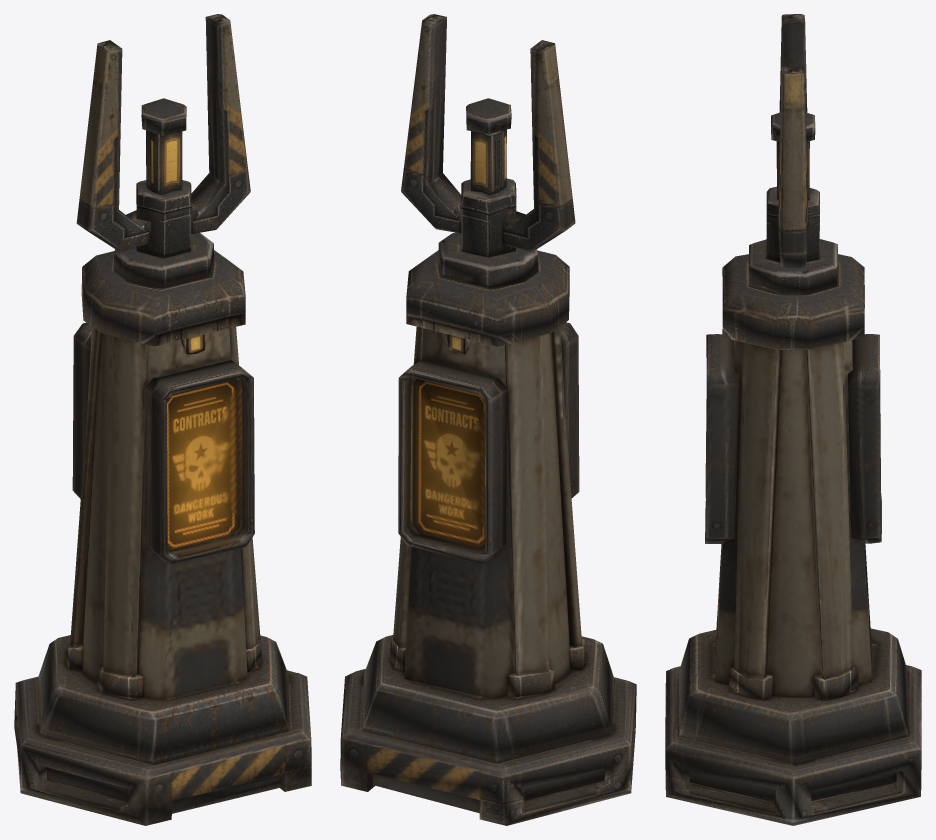
File: Contract Deco.glb
3 renders of one model, left to right at view 1: azimuth 30°, elevation 25°; view 2: azimuth 150°, elevation 25°; view 3: azimuth 270°, elevation 25°, orthographic.
Size of the model in its own units: 0.8262 by 2 by 0.6523.
1 material, 1 textured.
